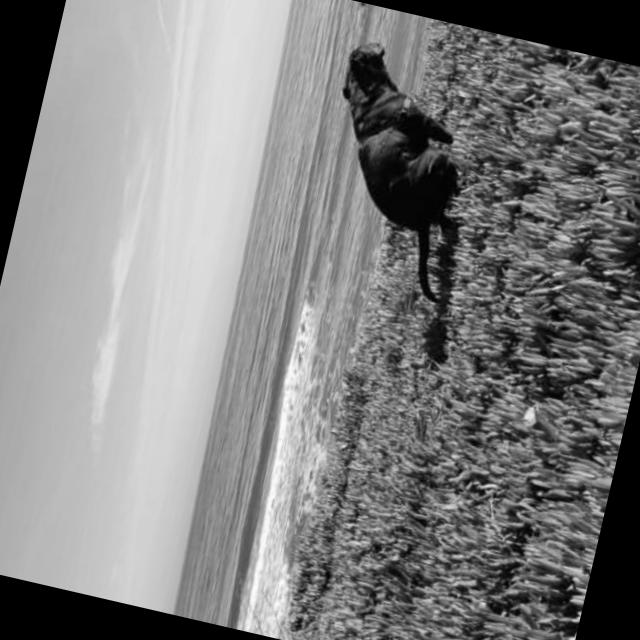squatting: (286, 28, 502, 318)
